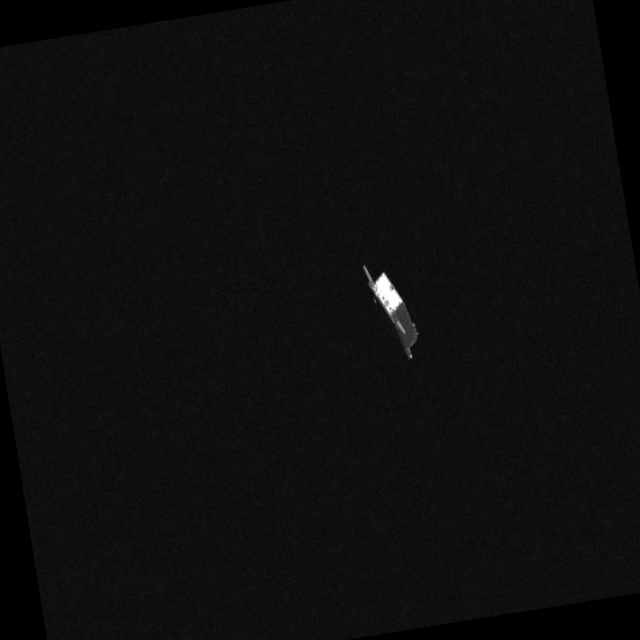medium_debris: (352, 247, 425, 365)
